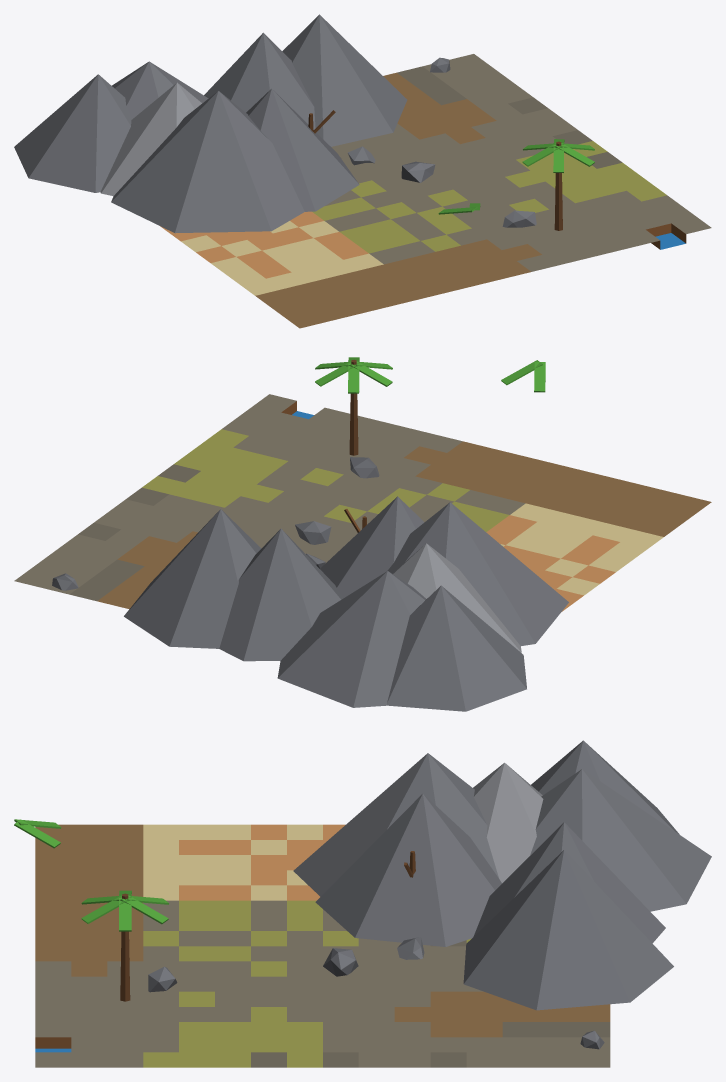
File: chunk_9_20.glb
3 views of the same model, one above another, from view 1: azimuth 30°, elevation 25°; view 2: azimuth 150°, elevation 25°; view 3: azimuth 270°, elevation 25° (orthographic). The views are drawn at different scales.
Parts seen in each view (by area): view 1: chunk_9_20; view 2: chunk_9_20; view 3: chunk_9_20.
Part boxes in pixels (box(x1,y1,x2,y2)): chunk_9_20: box(14, 14, 711, 328); chunk_9_20: box(14, 357, 711, 711); chunk_9_20: box(14, 740, 711, 1067).
Size of the model in its own units: 17.92 by 4.06 by 19.43.
